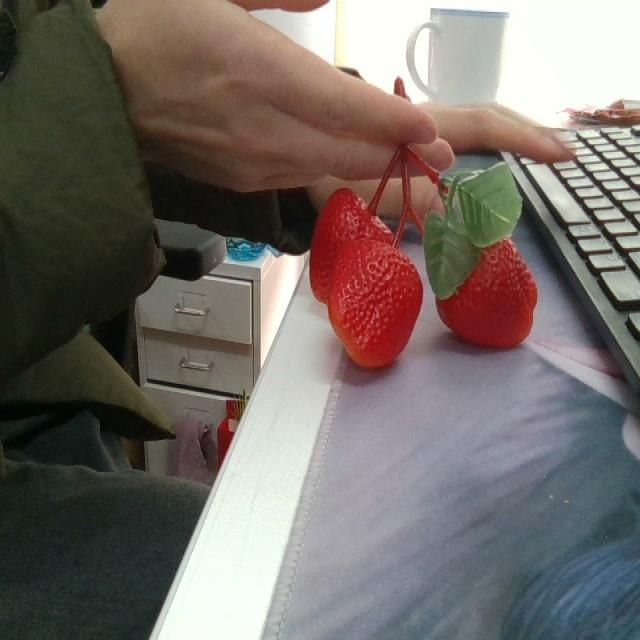mature: (327, 246, 422, 370), (438, 229, 536, 347), (305, 181, 388, 303)
